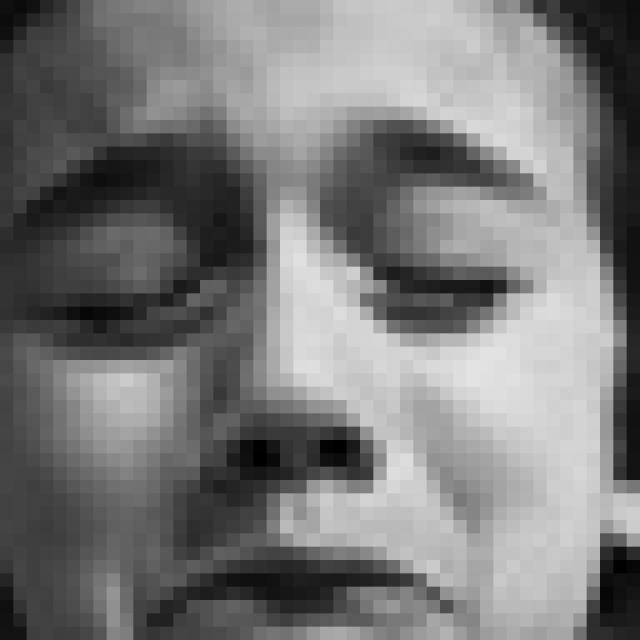sad: (0, 127, 555, 640)
